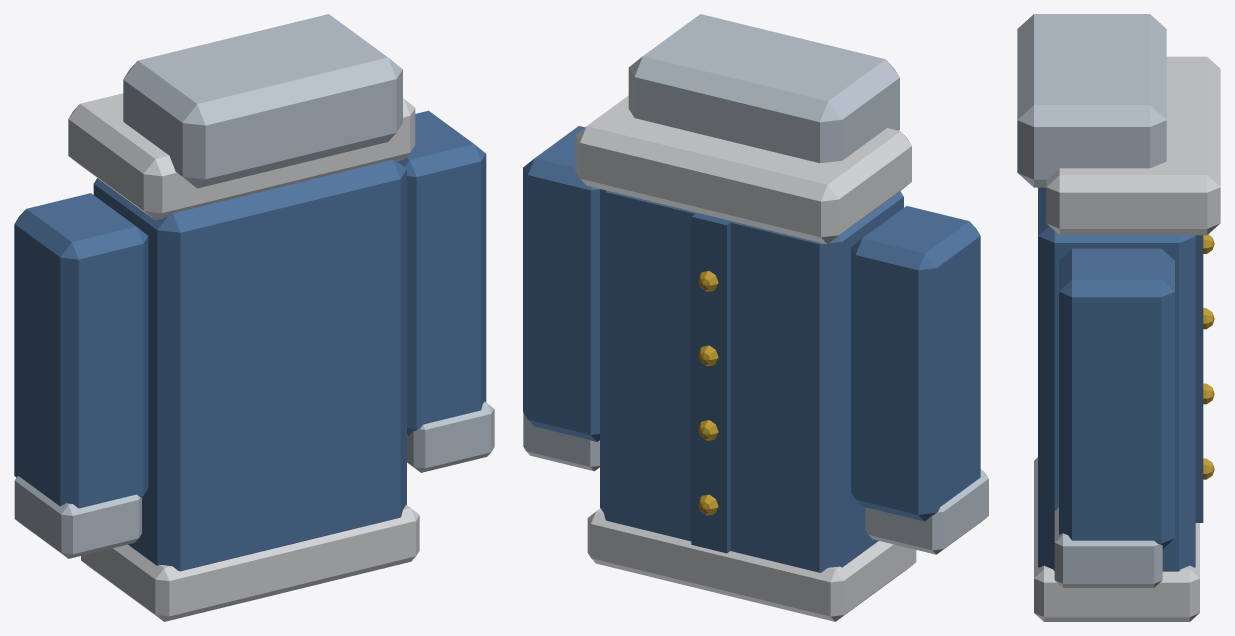
Rendered from InsulatedCoat.glb.
The picture shows the model from 3 angles, left to right: view 1: azimuth 30°, elevation 25°; view 2: azimuth 150°, elevation 25°; view 3: azimuth 270°, elevation 25°; orthographic projection. The views are drawn at different scales.
Visible parts, largest first — view 1: Body; view 2: Body; view 3: Body.
Part boxes in pixels (x1,y1,x2,y2): Body: (14, 14, 494, 621); Body: (523, 14, 988, 621); Body: (1017, 14, 1220, 621).
Size of the model in its own units: 2.95 by 3.35 by 1.23.
